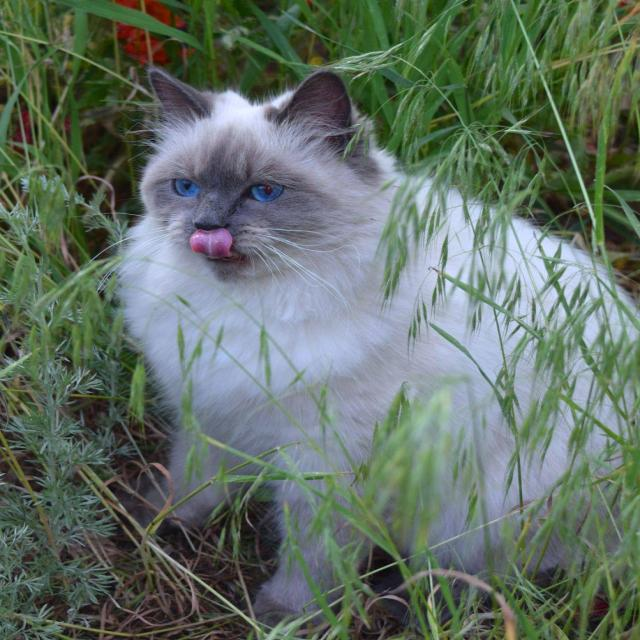Neva Masquerade: (110, 59, 640, 640)
